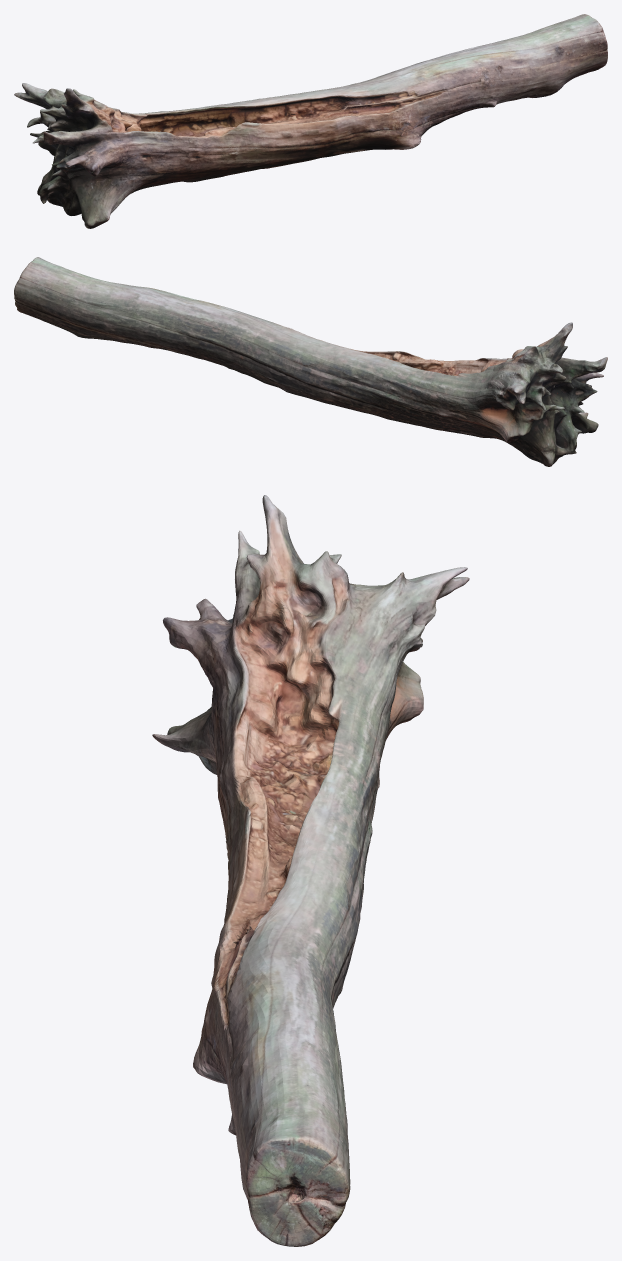
File: Trunk01.obj
3 renders of one model, top to bottom at view 1: azimuth 30°, elevation 25°; view 2: azimuth 150°, elevation 25°; view 3: azimuth 270°, elevation 25°, orthographic. The views are drawn at different scales.
Visible parts, largest first — view 1: Lr_Trunk_Baked01; view 2: Lr_Trunk_Baked01; view 3: Lr_Trunk_Baked01.
Boxes of the visible parts, <box> form: Lr_Trunk_Baked01: <box>14,14,607,228</box>; Lr_Trunk_Baked01: <box>14,257,607,466</box>; Lr_Trunk_Baked01: <box>152,495,469,1246</box>.
Bounding box in the file's own units: 25.03 × 5.55 × 6.05.
